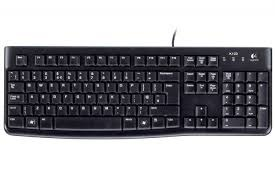keyboard: (4, 30, 275, 143)
